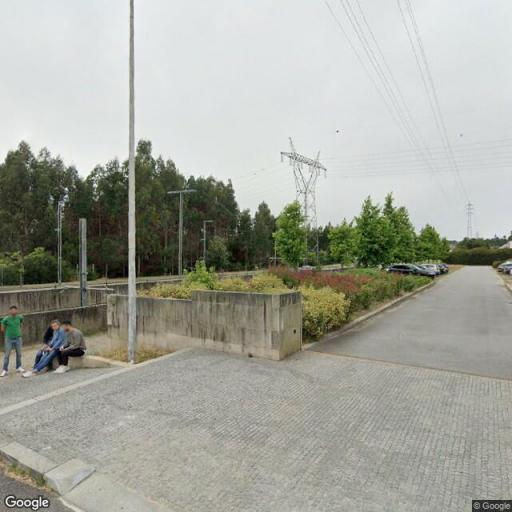ss_3: (465, 201, 474, 238)
wt_5: (279, 135, 330, 260)
